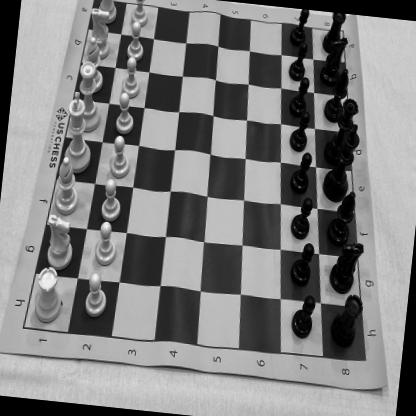bishop: (50, 154, 82, 216), (326, 188, 356, 246), (322, 66, 350, 124), (80, 36, 107, 93)
king: (320, 120, 362, 204), (60, 90, 96, 176)
knight: (328, 240, 364, 296), (42, 212, 76, 271), (85, 5, 114, 60), (318, 35, 348, 88)
pawn: (82, 269, 110, 319), (92, 218, 119, 266), (97, 176, 124, 222), (105, 134, 133, 178), (290, 293, 316, 339), (288, 242, 314, 286), (288, 196, 314, 240), (112, 90, 138, 134), (286, 76, 310, 118), (289, 152, 312, 194), (119, 56, 142, 98), (288, 110, 310, 152), (123, 21, 146, 61), (288, 41, 310, 82), (288, 7, 310, 48), (127, 0, 150, 27)
queen: (322, 94, 361, 167), (72, 60, 106, 134)
rook: (29, 264, 65, 325), (328, 292, 364, 348), (321, 11, 347, 54), (94, 0, 120, 26)
